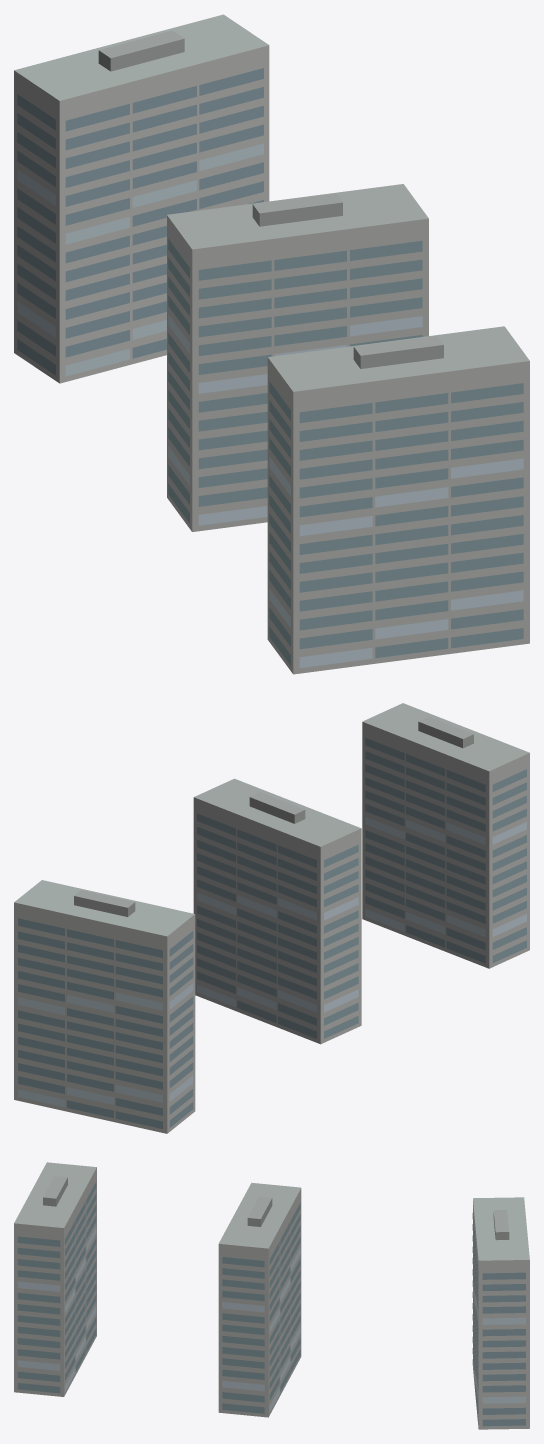
The model's file is apt-a13201002.glb.
3 views of the same model, one above another, from view 1: azimuth 30°, elevation 25°; view 2: azimuth 150°, elevation 25°; view 3: azimuth 270°, elevation 25° (orthographic). The views are drawn at different scales.
Visible parts, largest first — view 1: apt-a13201002; view 2: apt-a13201002; view 3: apt-a13201002.
Boxes of the visible parts, x1,y1,x2,y2 form: apt-a13201002: [14, 14, 529, 674]; apt-a13201002: [14, 703, 529, 1133]; apt-a13201002: [14, 1162, 529, 1429].
Bounding box in the file's own units: 48.92 × 41 × 108.
